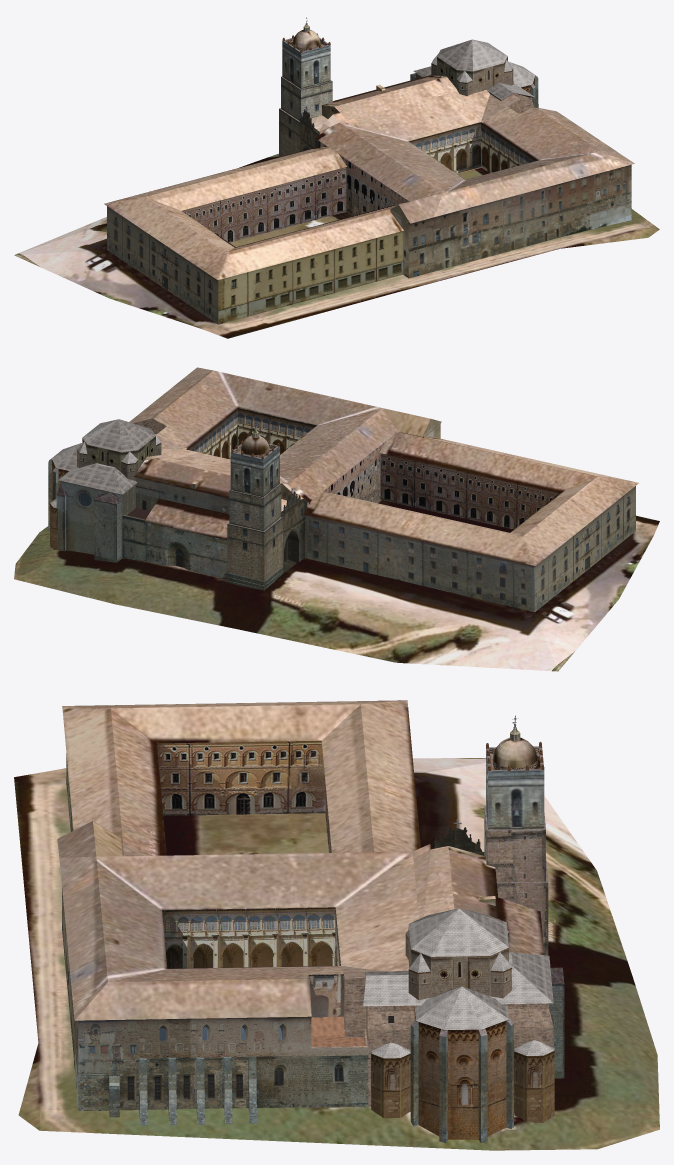
3 renders of one model, top to bottom at view 1: azimuth 30°, elevation 25°; view 2: azimuth 150°, elevation 25°; view 3: azimuth 270°, elevation 25°, orthographic. The views are drawn at different scales.
Visible parts, largest first — view 1: skp4DF2_1; view 2: skp4DF2_1; view 3: skp4DF2_1.
Boxes of the visible parts, x1,y1,x2,y2 form: skp4DF2_1: [14, 17, 659, 338]; skp4DF2_1: [14, 367, 659, 671]; skp4DF2_1: [14, 700, 659, 1150].
Bounding box in the file's own units: 5576 × 2112 × 3808.
